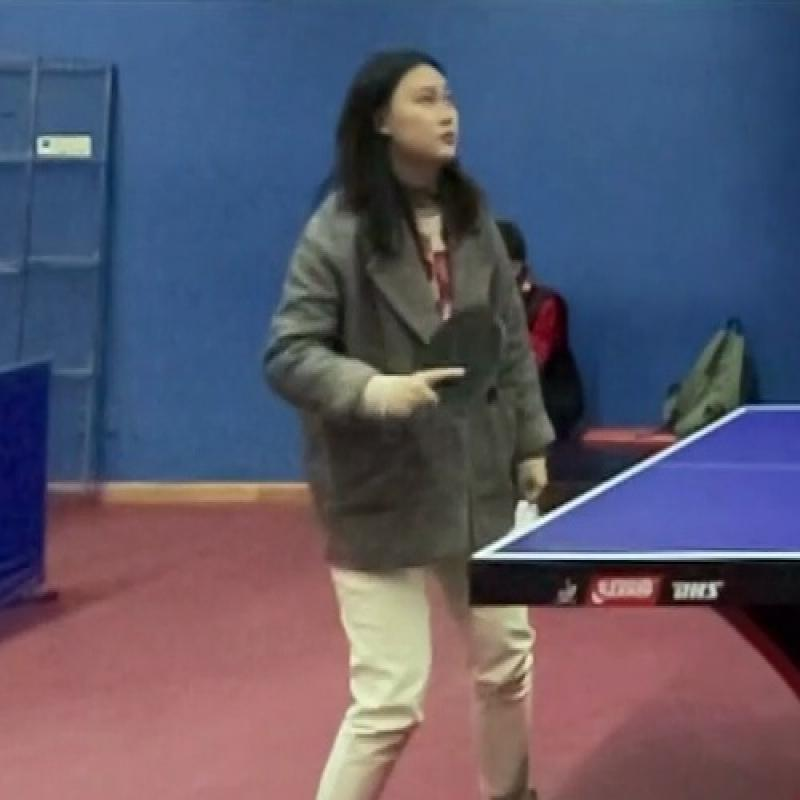bats: (389, 310, 508, 402)
